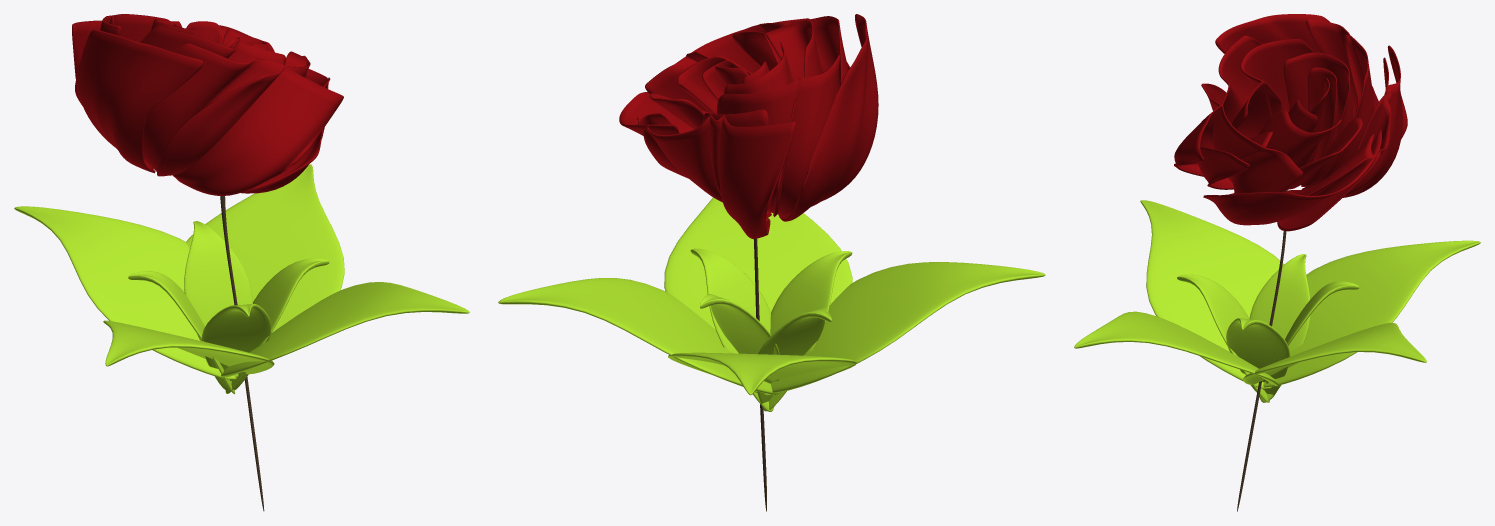
The model's file is maceta maca flor.fbx.
The picture shows the model from 3 angles, left to right: view 1: azimuth 30°, elevation 25°; view 2: azimuth 150°, elevation 25°; view 3: azimuth 270°, elevation 25°; orthographic projection. The views are drawn at different scales.
Visible parts, largest first — view 1: Plane.016, Point, Plane.051; view 2: Plane.016, Point, Plane.051; view 3: Plane.016, Point, Plane.051.
Boxes of the visible parts, x1,y1,x2,y2 form: Plane.016: [14, 164, 469, 394]; Point: [72, 14, 343, 195]; Plane.051: [220, 196, 264, 511]; Plane.016: [498, 197, 1045, 411]; Point: [619, 14, 878, 238]; Plane.051: [753, 238, 766, 511]; Plane.016: [1074, 200, 1480, 402]; Point: [1174, 14, 1407, 231]; Plane.051: [1237, 190, 1287, 511].
Size of the model in its own units: 15.61 by 20.12 by 16.62.
